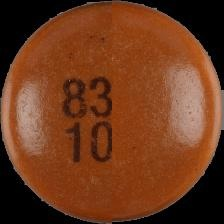24236-258: (0, 0, 224, 224)
